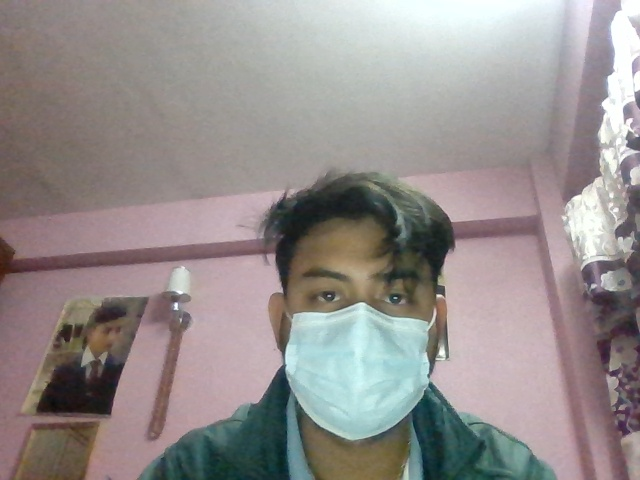mask: (265, 301, 445, 448)
